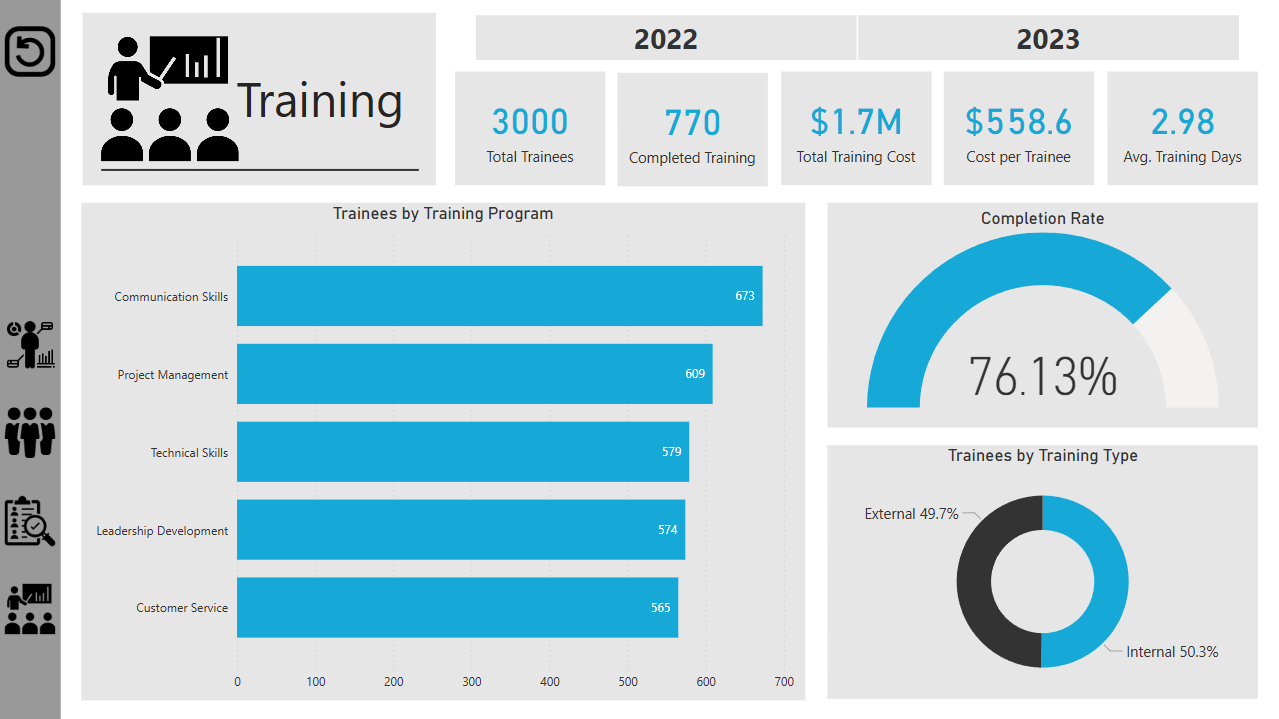

What the dashboard file says about the page in this screenshot:
{"tool":"powerbi","page":{"name":"Training","canvas":[1280,720],"ordinal":3},"visuals":[{"type":"shape","box":[0,0,60.7,720.2],"z":0,"group":"g2"},{"type":"group","id":"g1","title":"Logo","box":[82,13.5,353.6,172.6],"z":0},{"type":"shape","box":[82,13.5,353.6,172.6],"z":0,"group":"g1"},{"type":"clusteredBarChart","title":"Trainees by Training Program","fields":{"Category":["training_and_development_data.Training Program Name"],"Y":["measure.Total Employees"]},"box":[81.6,203.3,723.7,497.4],"z":1000},{"type":"image","box":[0,491.4,59.9,61.1],"z":1000,"group":"g2"},{"type":"shape","box":[101.2,163.9,317.6,14.4],"z":1500,"group":"g1"},{"type":"image","box":[95.2,32.7,147.4,134.2],"z":1750,"group":"g1"},{"type":"textbox","box":[207.9,61.4,222.9,76.7],"z":2000,"group":"g1"},{"type":"donutChart","title":"Trainees by Training Type","fields":{"Category":["training_and_development_data.Training Type"],"Y":["measure.Total Employees"]},"box":[827.1,446.8,430.8,253.9],"z":2000},{"type":"image","box":[0,580.1,59.9,59.9],"z":2000,"group":"g2"},{"type":"card","fields":{"Values":["measure.Total Trainees"]},"box":[454.9,72.4,150,113.7],"z":3000},{"type":"image","box":[0,315.2,59.9,61.1],"z":3000,"group":"g2"},{"type":"slicer","fields":{"Values":["training_and_development_data.Training Date.Variation.Date Hierarchy.Year"]},"box":[454.9,13.8,802.9,47.1],"z":4000},{"type":"image","box":[0,403.9,59.9,59.9],"z":4000,"group":"g2"},{"type":"gauge","fields":{"Y":["measure.Completion Rate"]},"box":[827.1,203.3,430.8,225.1],"z":5000},{"type":"card","fields":{"Values":["measure.Total complete training"]},"box":[618,73.5,150,113.7],"z":6000},{"type":"card","fields":{"Values":["measure.Total training Cost"]},"box":[781.1,72.4,150,113.7],"z":7000},{"type":"card","fields":{"Values":["measure.Average Cost"]},"box":[944.2,72.4,150,113.7],"z":8000},{"type":"card","fields":{"Values":["measure.Total Training Days"]},"box":[1107.3,72.4,150.5,113.7],"z":9000},{"type":"group","id":"g2","title":"Nav Bar","box":[0,0,60.7,720.2],"z":10000},{"type":"image","box":[0,22.8,59.9,59.9],"z":11000}]}

Visuals, with their boxes on the page's 1280x720 design canvas (x1, y1, x2, y2). These are canvas units, not pixel positions in the 1279x719 screenshot, which may show the page scaled, cropped or inside an application window:
shape: rect(0, 0, 61, 720)
"Logo" group: rect(82, 14, 436, 186)
shape: rect(82, 14, 436, 186)
"Trainees by Training Program" clusteredBarChart: rect(82, 203, 805, 701)
image: rect(0, 491, 60, 552)
shape: rect(101, 164, 419, 178)
image: rect(95, 33, 243, 167)
textbox: rect(208, 61, 431, 138)
"Trainees by Training Type" donutChart: rect(827, 447, 1258, 701)
image: rect(0, 580, 60, 640)
card - measure.Total Trainees: rect(455, 72, 605, 186)
image: rect(0, 315, 60, 376)
slicer - training_and_development_data.Training Date.Variation.Date Hierarchy.Year: rect(455, 14, 1258, 61)
image: rect(0, 404, 60, 464)
gauge - measure.Completion Rate: rect(827, 203, 1258, 428)
card - measure.Total complete training: rect(618, 74, 768, 187)
card - measure.Total training Cost: rect(781, 72, 931, 186)
card - measure.Average Cost: rect(944, 72, 1094, 186)
card - measure.Total Training Days: rect(1107, 72, 1258, 186)
"Nav Bar" group: rect(0, 0, 61, 720)
image: rect(0, 23, 60, 83)
